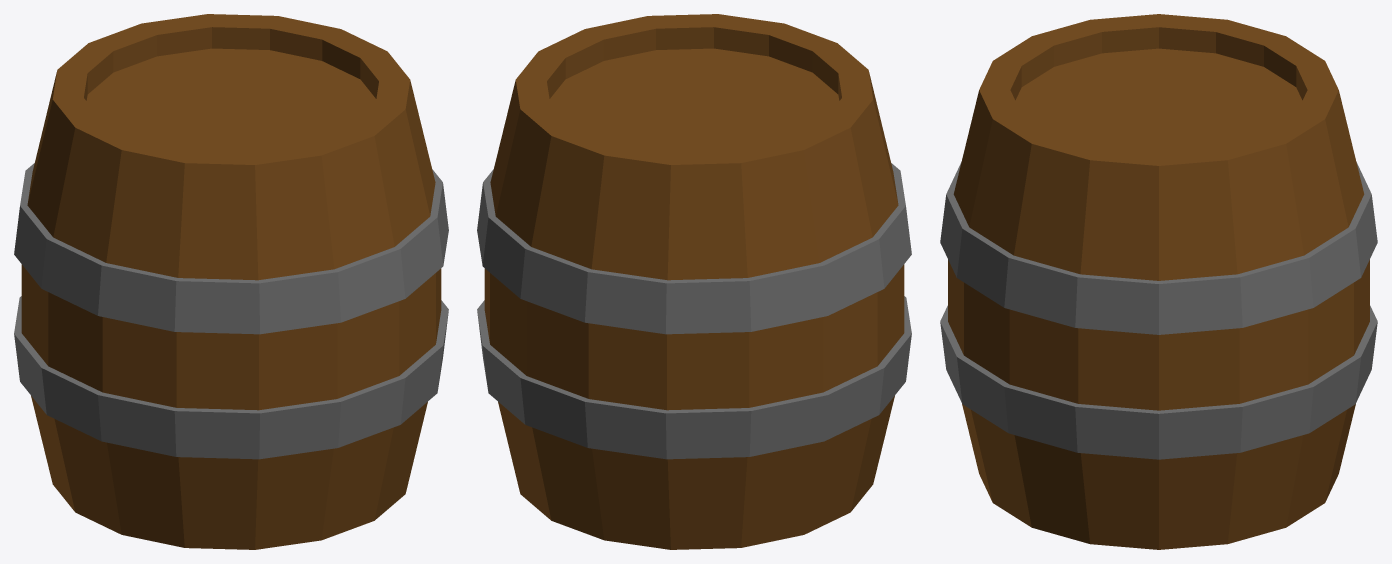
The model's file is Beach_House_Barrel_01.fbx.
3 views of the same model, side by side, from view 1: azimuth 30°, elevation 25°; view 2: azimuth 150°, elevation 25°; view 3: azimuth 270°, elevation 25° (orthographic).
Parts seen in each view (by area): view 1: Beach_House_Barrel_01; view 2: Beach_House_Barrel_01; view 3: Beach_House_Barrel_01.
Boxes of the visible parts, left/top/right/bottom form: Beach_House_Barrel_01: left=14, top=14, right=448, bottom=549; Beach_House_Barrel_01: left=477, top=14, right=911, bottom=549; Beach_House_Barrel_01: left=940, top=14, right=1377, bottom=549.
Size of the model in its own units: 1.58 by 1.53 by 1.58.
